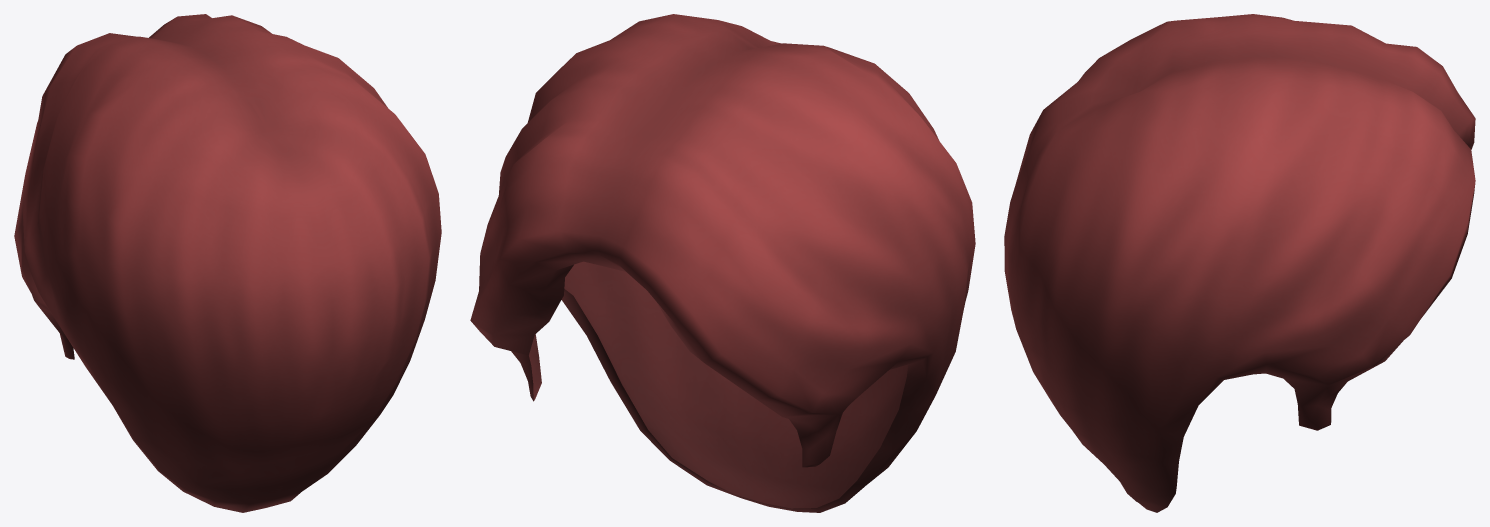
File: Hair_Male_003_textured_red.glb
The picture shows the model from 3 angles, left to right: view 1: azimuth 30°, elevation 25°; view 2: azimuth 150°, elevation 25°; view 3: azimuth 270°, elevation 25°; orthographic projection. The views are drawn at different scales.
Visible parts, largest first — view 1: Hair_Male_003; view 2: Hair_Male_003; view 3: Hair_Male_003.
Part boxes in pixels (<box>): Hair_Male_003: <box>14,14,441,512</box>; Hair_Male_003: <box>470,14,975,512</box>; Hair_Male_003: <box>1004,14,1475,512</box>.
Size of the model in its own units: 0.2155 by 0.2438 by 0.2307.
Materials: 1 (1 with a texture image).
